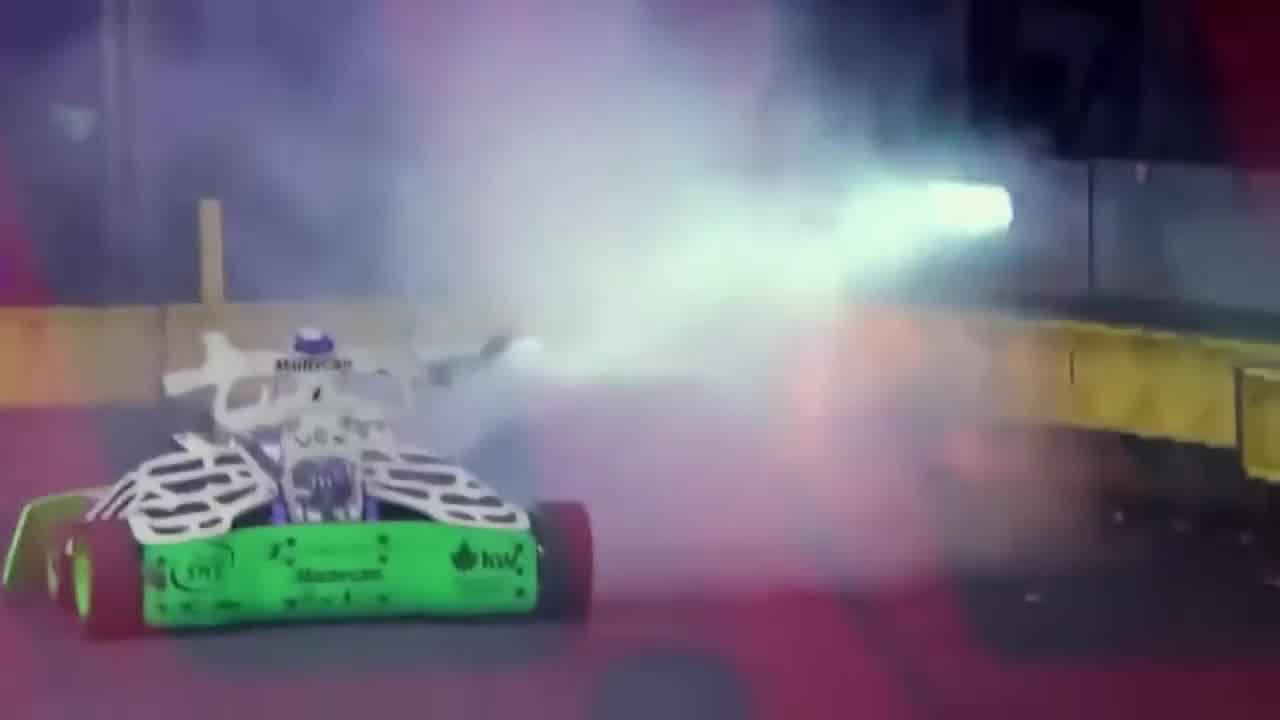combatbot: (2, 327, 593, 631)
